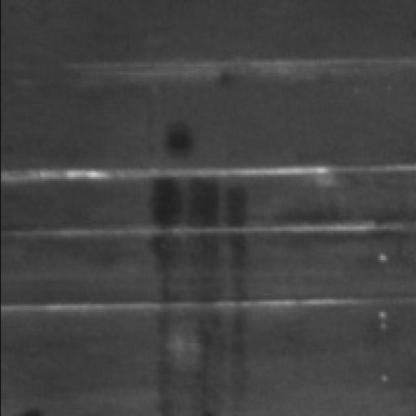inclusion: (148, 173, 258, 416)
scratches: (4, 158, 410, 194), (4, 294, 412, 324), (69, 218, 414, 252), (69, 50, 398, 83)
